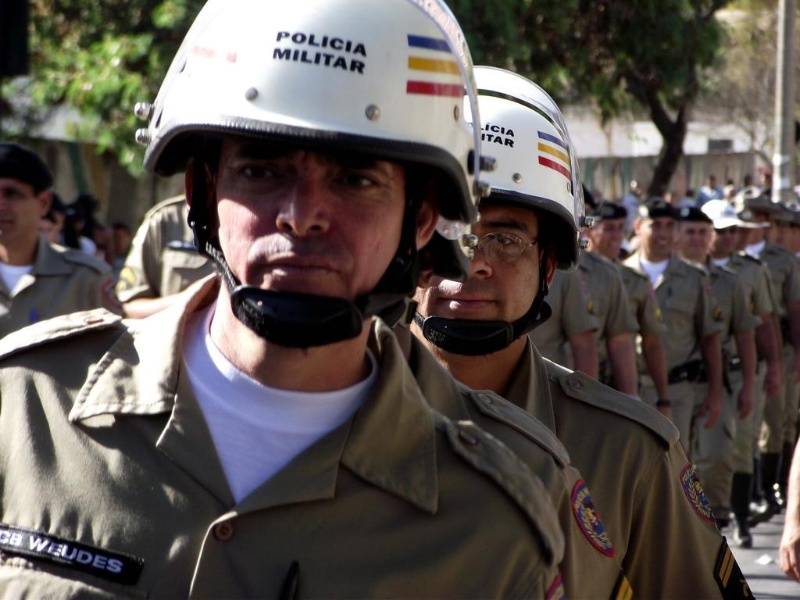Baret: (145, 1, 478, 174)
